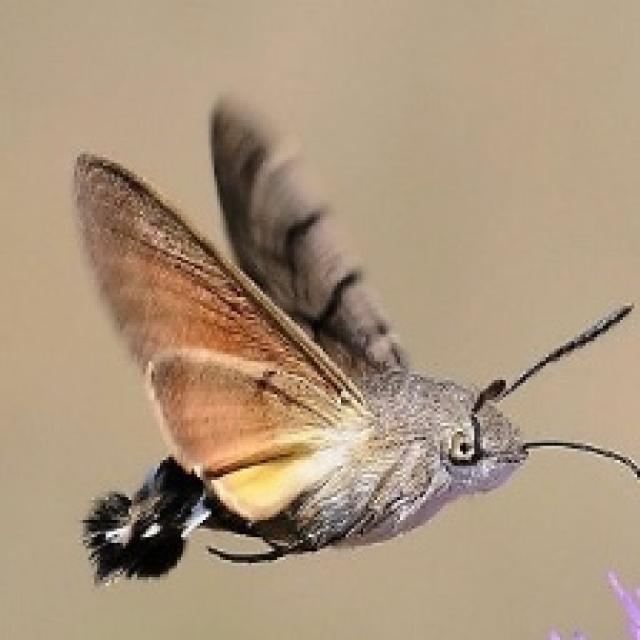butterfly: (69, 94, 637, 586)
